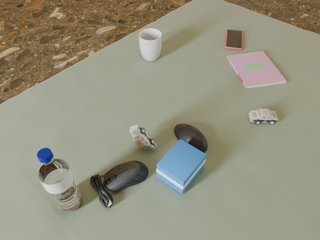book: (227, 51, 286, 88)
bottle: (37, 148, 82, 213)
box: (157, 139, 206, 194)
cup: (139, 29, 162, 61)
mouse: (90, 161, 148, 208), (174, 124, 207, 153)
phone: (225, 30, 242, 50)
toy_car: (129, 125, 157, 149), (249, 109, 278, 124)
